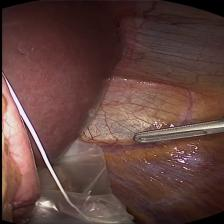Grasper: (132, 117, 224, 145)
Specimen Bag: (23, 139, 134, 224)
